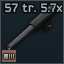FN Five-seveN 5.7x28 threaded barrel: (0, 0, 64, 64)
